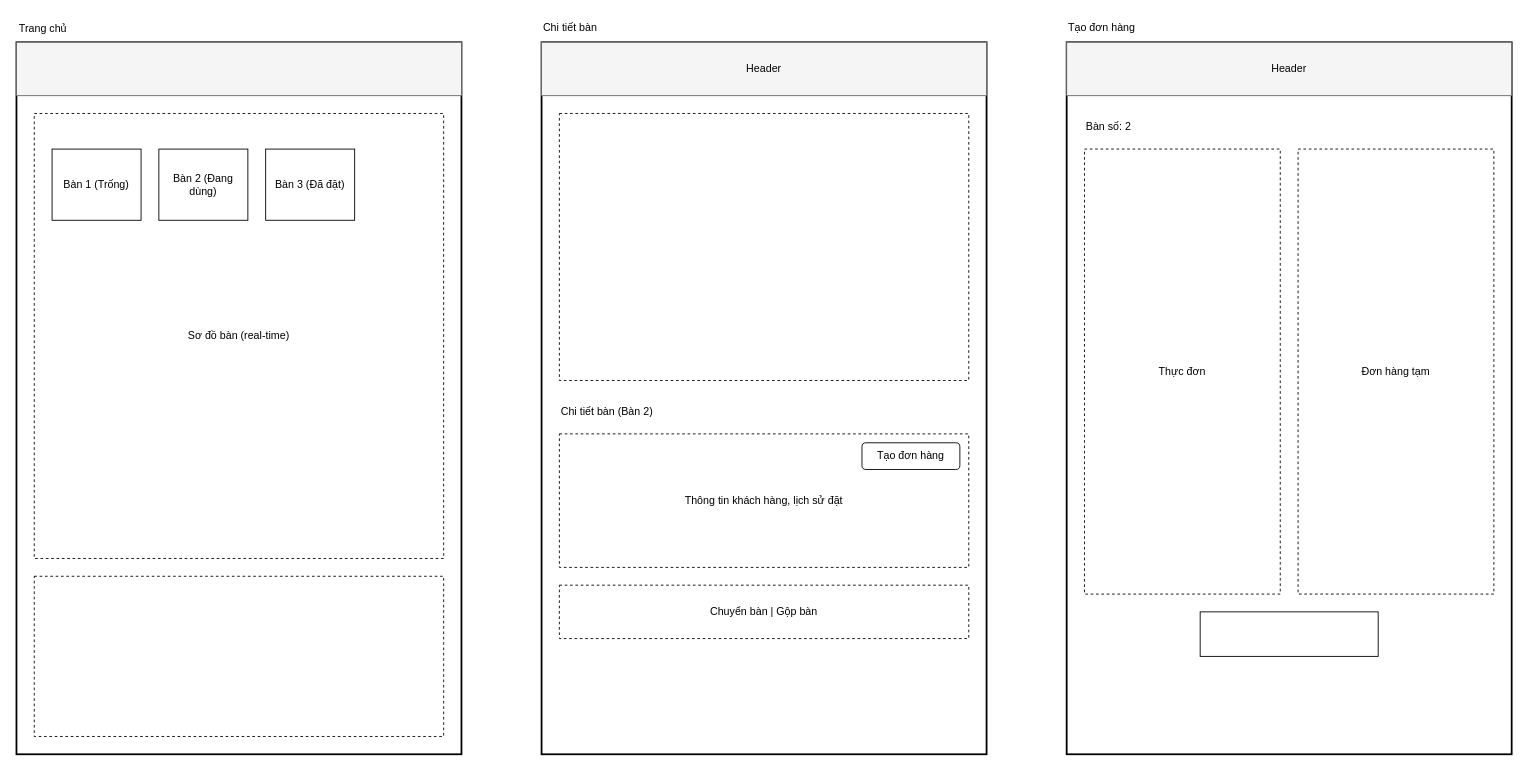
Some shapes in this 1527 by 770 pixel diagram are drawn without their labels. The centre of each missing label's shape, as x and y in pixels:
Danh sách đơn hàng đang chờ: the point at 238,655
Gửi đơn đến bếp: the point at 1288,633
Header (Tên nhân viên, Đăng xuất): the point at 238,68
Sơ đồ bàn: the point at 763,246
